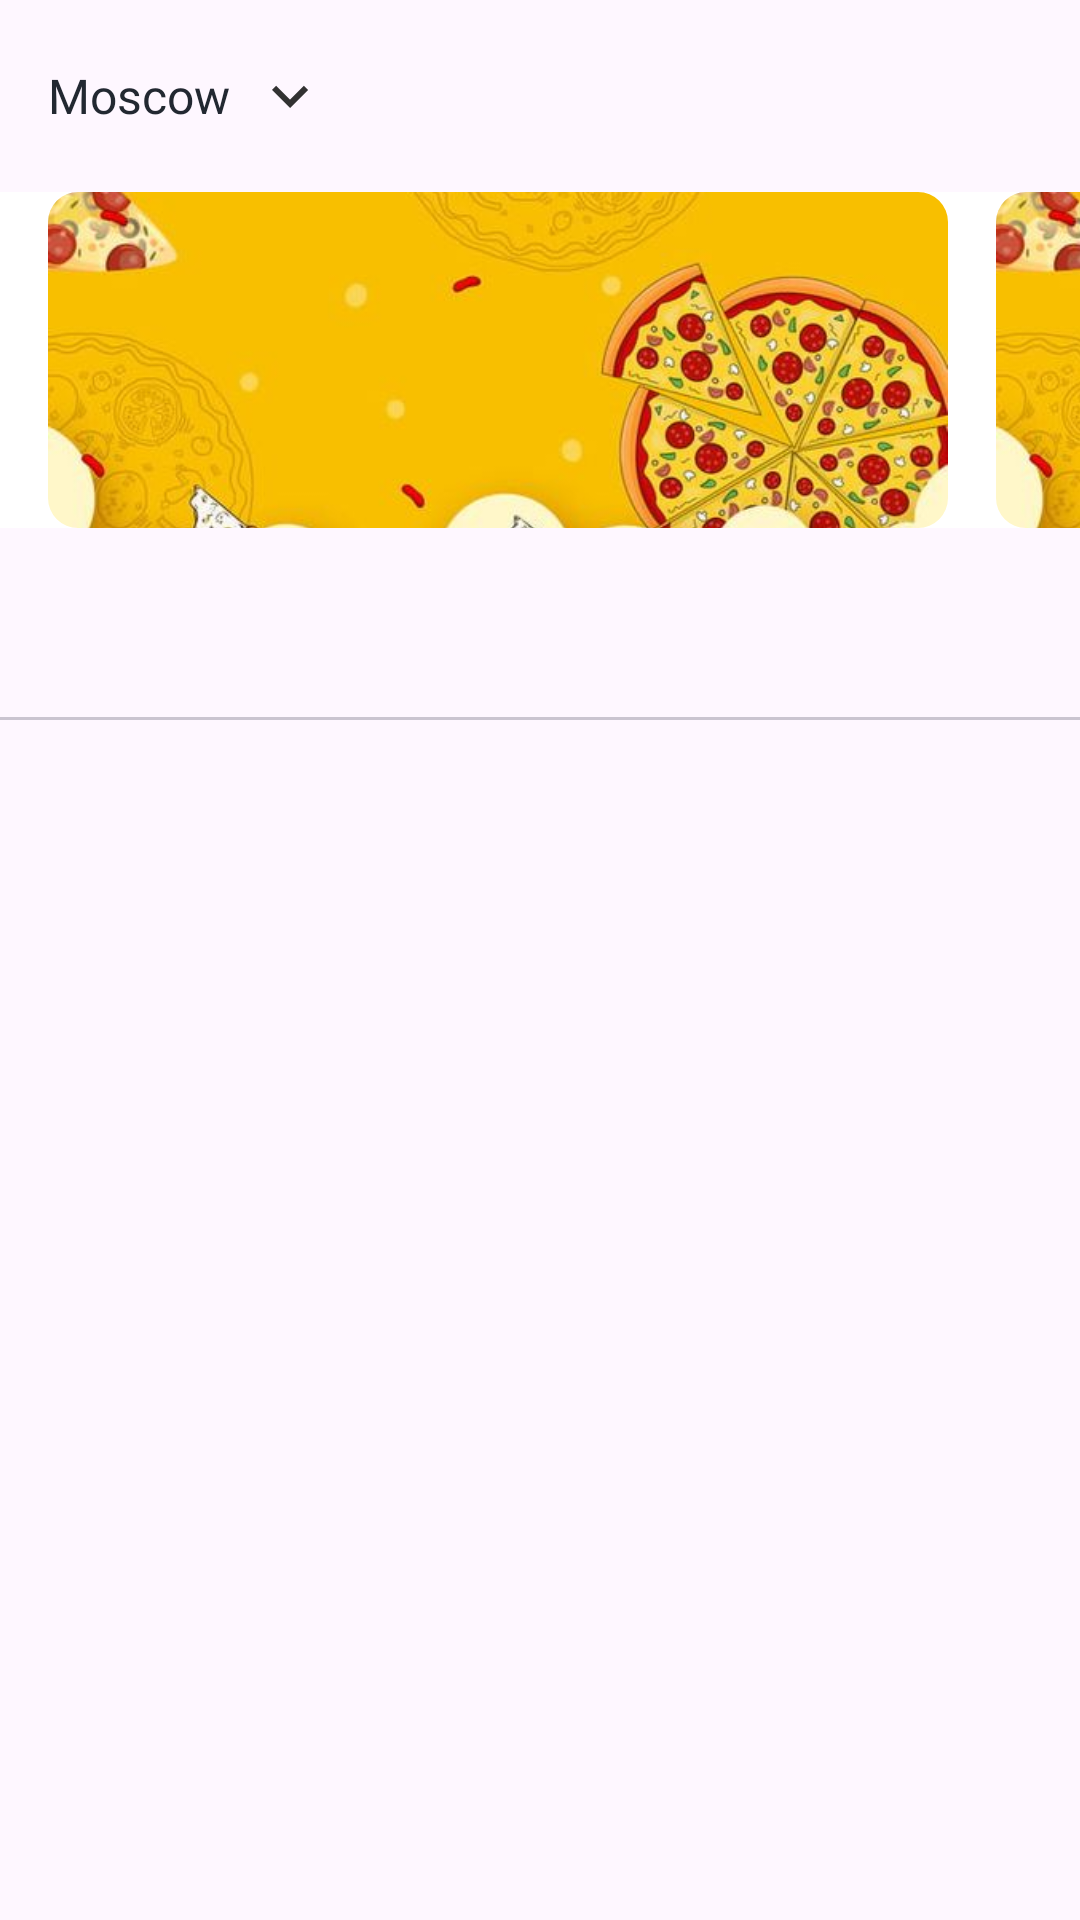

Icon click points for this 1080px×1920px phone screenshot, format (x=x, y=y):
arrow down: (x=290, y=97)
